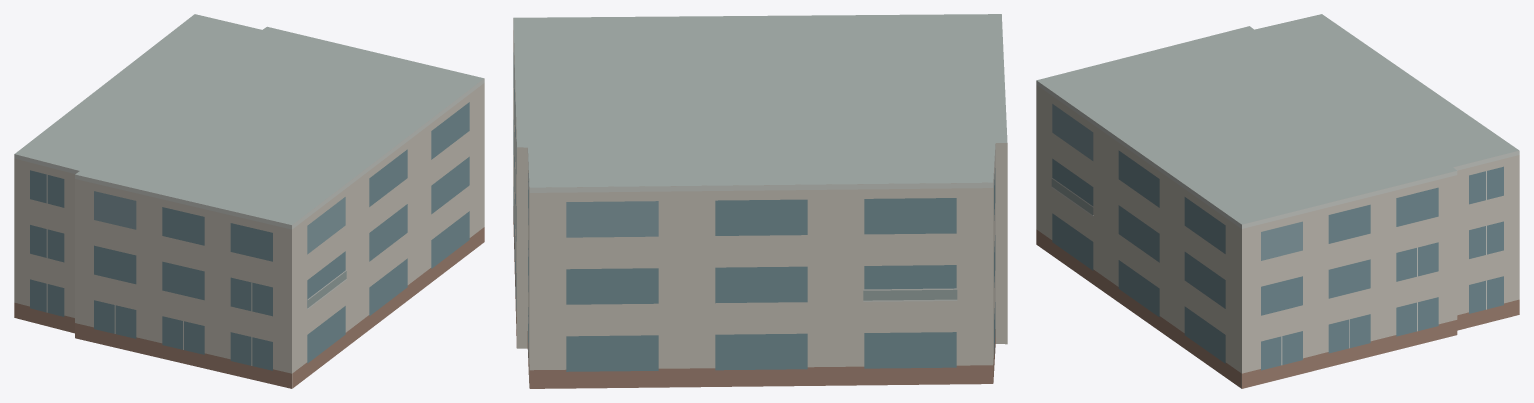
File: survey-upis-32882399.glb
3 views of the same model, side by side, from view 1: azimuth 30°, elevation 25°; view 2: azimuth 150°, elevation 25°; view 3: azimuth 270°, elevation 25° (orthographic). The views are drawn at different scales.
Visible parts, largest first — view 1: survey-upis-32882399.tmp; view 2: survey-upis-32882399.tmp; view 3: survey-upis-32882399.tmp.
Part boxes in pixels (left/top/right/bottom): survey-upis-32882399.tmp: left=14, top=14, right=484, bottom=388; survey-upis-32882399.tmp: left=513, top=14, right=1007, bottom=388; survey-upis-32882399.tmp: left=1036, top=14, right=1519, bottom=388.
Size of the model in its own units: 25.17 by 9.15 by 24.4.
